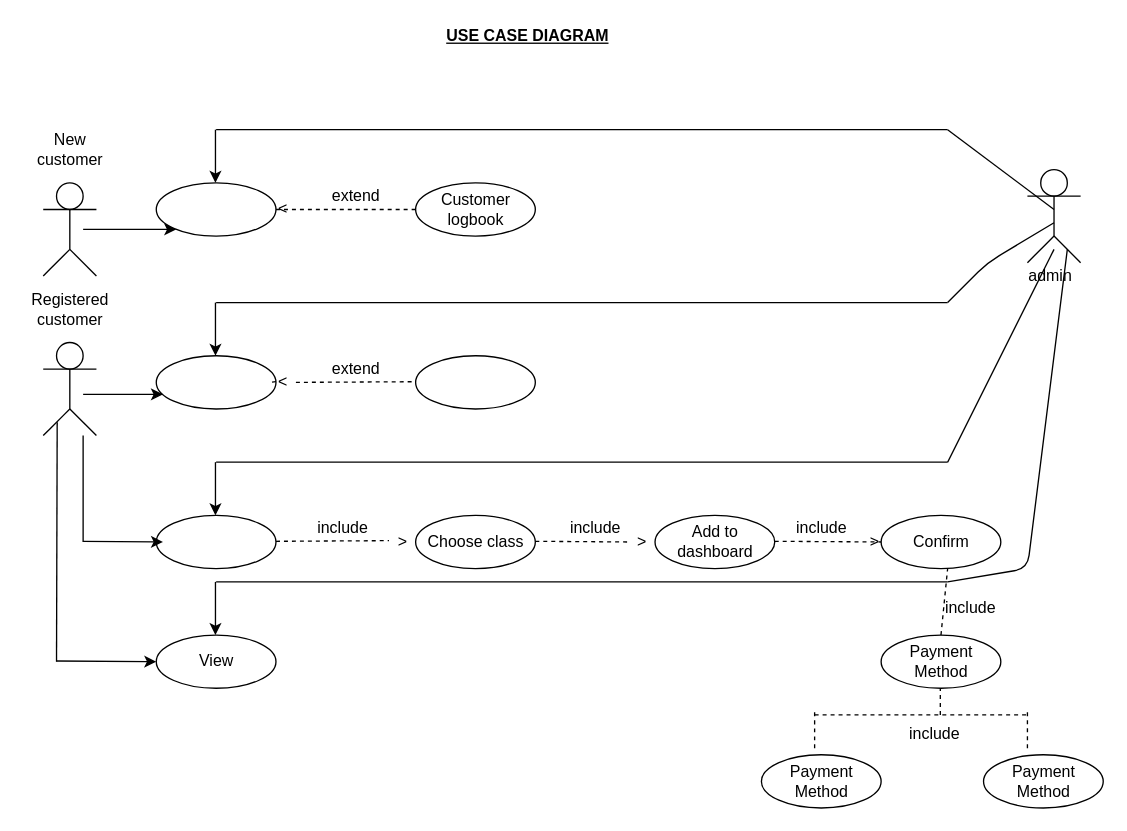
The diagram is 1127 pixels wide and 831 high, and some of its shapes have lost their labels. The box of each missing label's shape, as (x1, y1, x2, y2) in pixels:
Buy: (155, 514, 276, 569)
Login: (155, 354, 276, 409)
Login verification: (414, 354, 535, 409)
Register: (155, 182, 276, 236)
